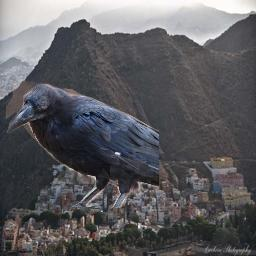Crow: (6, 81, 159, 208)
